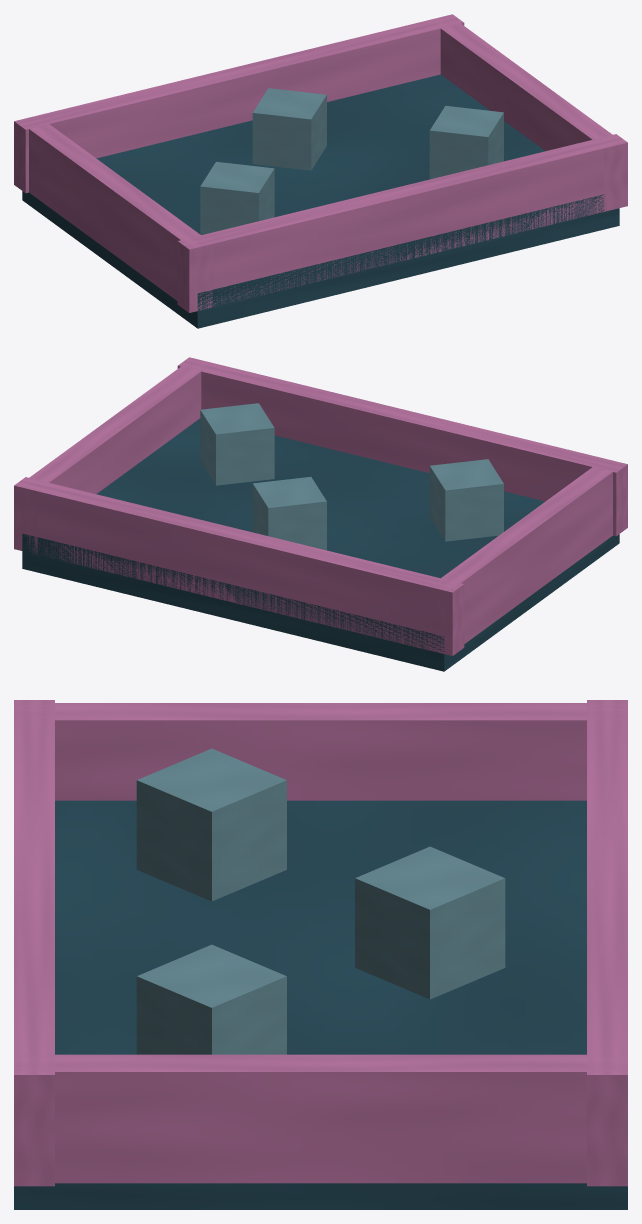
Rendered from atlas100-s061-a03.lod2.glb.
3 views of the same model, one above another, from view 1: azimuth 30°, elevation 25°; view 2: azimuth 150°, elevation 25°; view 3: azimuth 270°, elevation 25° (orthographic). The views are drawn at different scales.
Visible parts, largest first — view 1: atlas100-s061-a03:part-000, atlas100-s061-a03:part-002, atlas100-s061-a03:part-001, atlas100-s061-a03:part-003, atlas100-s061-a03:part-004, atlas100-s061-a03:part-006, atlas100-s061-a03:part-010, atlas100-s061-a03:part-008; view 2: atlas100-s061-a03:part-000, atlas100-s061-a03:part-001, atlas100-s061-a03:part-002, atlas100-s061-a03:part-003, atlas100-s061-a03:part-004, atlas100-s061-a03:part-010, atlas100-s061-a03:part-008, atlas100-s061-a03:part-006; view 3: atlas100-s061-a03:part-000, atlas100-s061-a03:part-004, atlas100-s061-a03:part-003, atlas100-s061-a03:part-001, atlas100-s061-a03:part-002, atlas100-s061-a03:part-006, atlas100-s061-a03:part-008, atlas100-s061-a03:part-010.
Boxes of the visible parts, left/top/right/bottom form: atlas100-s061-a03:part-000: left=22, top=74, right=619, bottom=328; atlas100-s061-a03:part-002: left=177, top=134, right=627, bottom=312; atlas100-s061-a03:part-001: left=14, top=14, right=464, bottom=193; atlas100-s061-a03:part-003: left=29, top=124, right=212, bottom=311; atlas100-s061-a03:part-004: left=430, top=15, right=624, bottom=211; atlas100-s061-a03:part-006: left=252, top=88, right=326, bottom=170; atlas100-s061-a03:part-010: left=429, top=105, right=503, bottom=179; atlas100-s061-a03:part-008: left=200, top=161, right=274, bottom=235; atlas100-s061-a03:part-000: left=22, top=418, right=619, bottom=671; atlas100-s061-a03:part-001: left=14, top=477, right=464, bottom=655; atlas100-s061-a03:part-002: left=177, top=357, right=627, bottom=536; atlas100-s061-a03:part-003: left=429, top=467, right=612, bottom=654; atlas100-s061-a03:part-004: left=17, top=358, right=211, bottom=554; atlas100-s061-a03:part-010: left=200, top=403, right=274, bottom=485; atlas100-s061-a03:part-008: left=429, top=459, right=503, bottom=541; atlas100-s061-a03:part-006: left=252, top=477, right=326, bottom=550; atlas100-s061-a03:part-000: left=14, top=800, right=627, bottom=1209; atlas100-s061-a03:part-004: left=14, top=1054, right=627, bottom=1183; atlas100-s061-a03:part-003: left=14, top=703, right=627, bottom=800; atlas100-s061-a03:part-001: left=587, top=700, right=627, bottom=1186; atlas100-s061-a03:part-002: left=14, top=700, right=54, bottom=1186; atlas100-s061-a03:part-006: left=355, top=846, right=505, bottom=999; atlas100-s061-a03:part-008: left=136, top=748, right=286, bottom=901; atlas100-s061-a03:part-010: left=136, top=944, right=286, bottom=1054.
Bounding box in the file's own units: 1.36 × 0.2563 × 0.9414.
3 materials, 3 textured.
